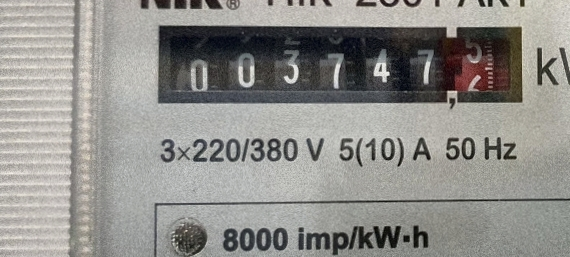0: (235, 49, 256, 88), (188, 57, 210, 92)
3: (281, 47, 300, 84)
4: (370, 45, 391, 85)
5: (464, 35, 483, 64)
6: (464, 71, 483, 92)
7: (414, 45, 437, 85), (325, 50, 345, 89)
screen: (148, 10, 537, 121)
